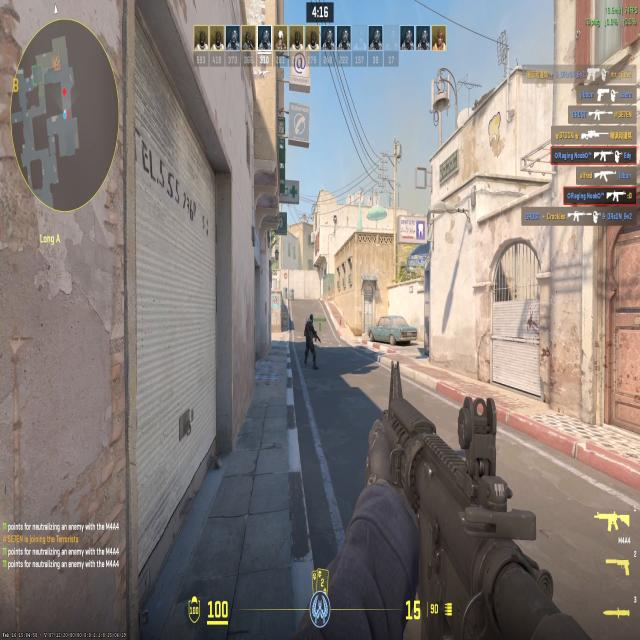player: (301, 310, 322, 371)
